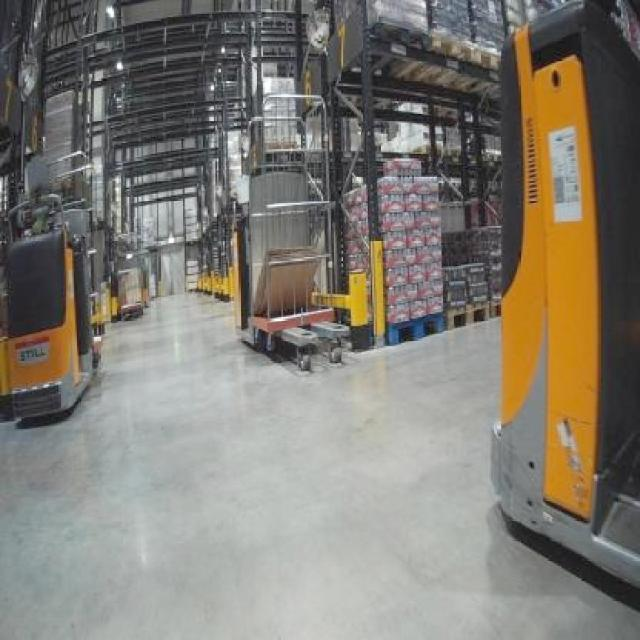floor: (0, 292, 637, 637)
pallets: (491, 2, 637, 583), (375, 157, 440, 340)
